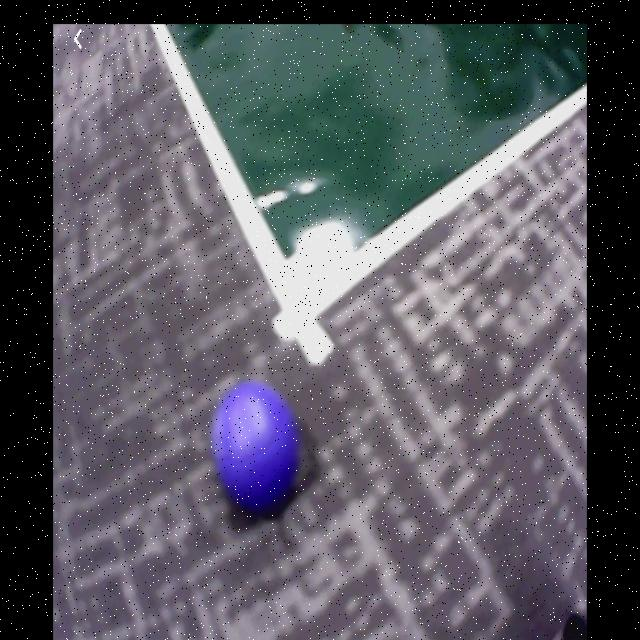ball: (214, 378, 301, 512)
